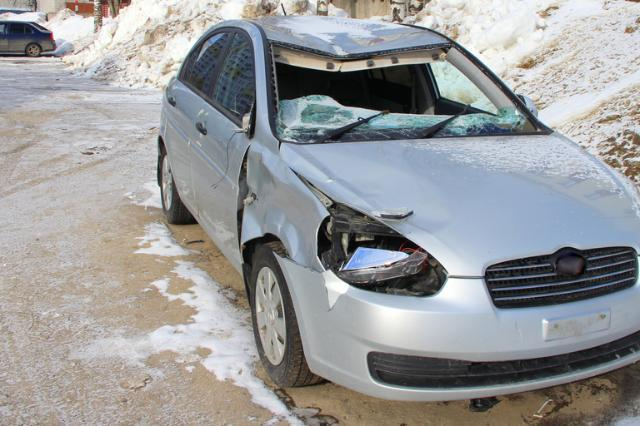Fender: (243, 158, 328, 270)
Light: (319, 210, 435, 292)
Windshield: (269, 46, 511, 132)
